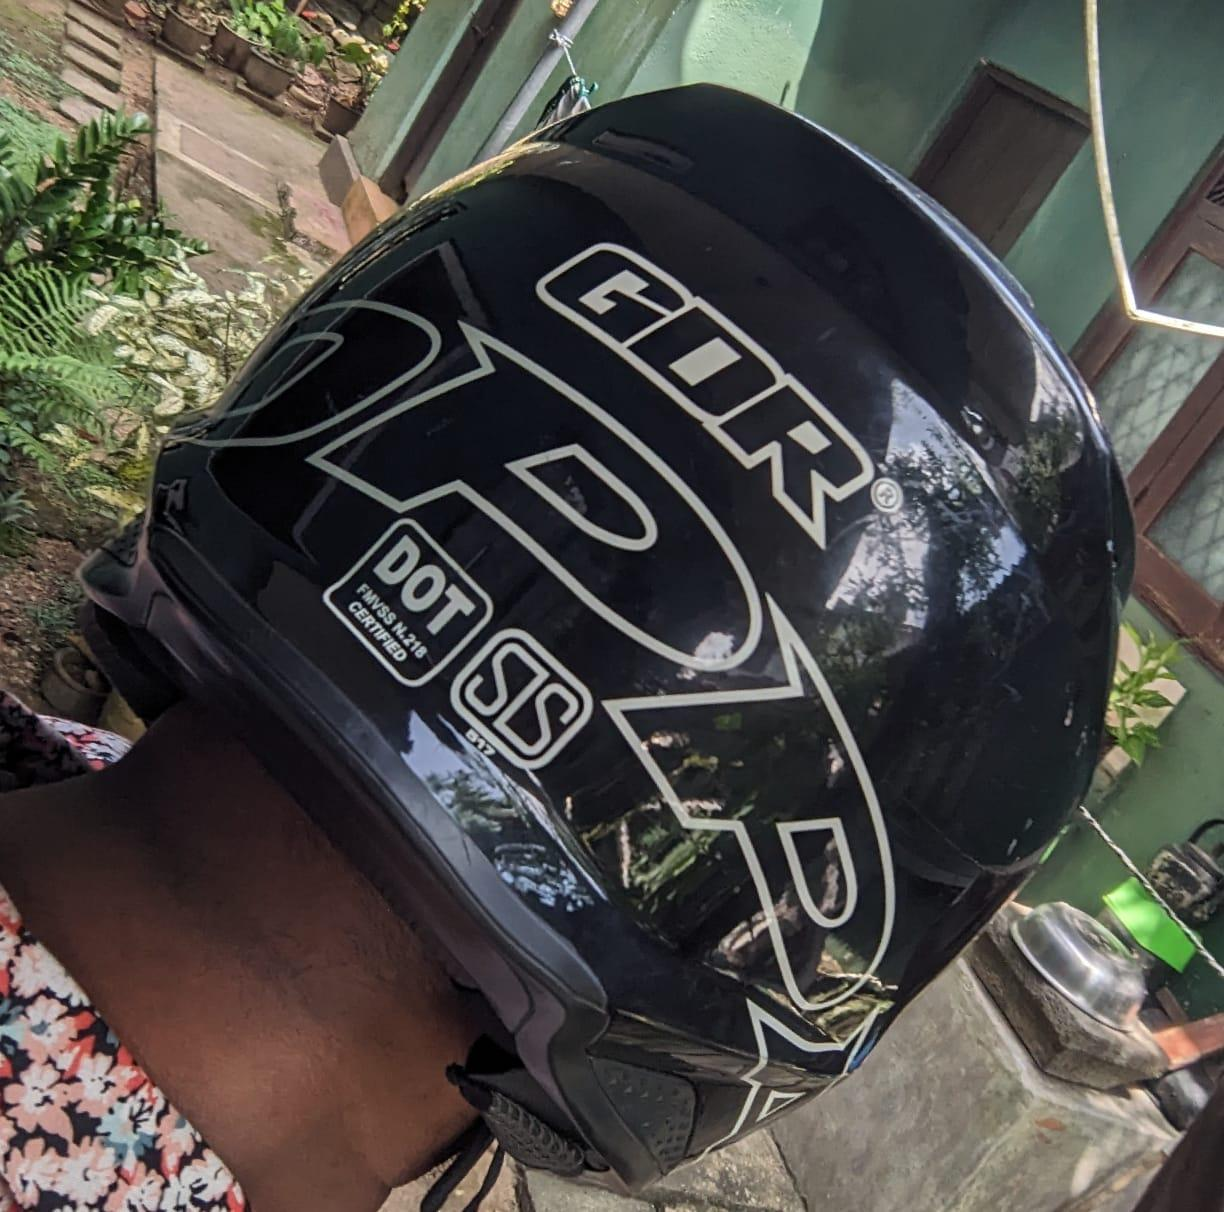helmet: (84, 71, 1139, 1201)
